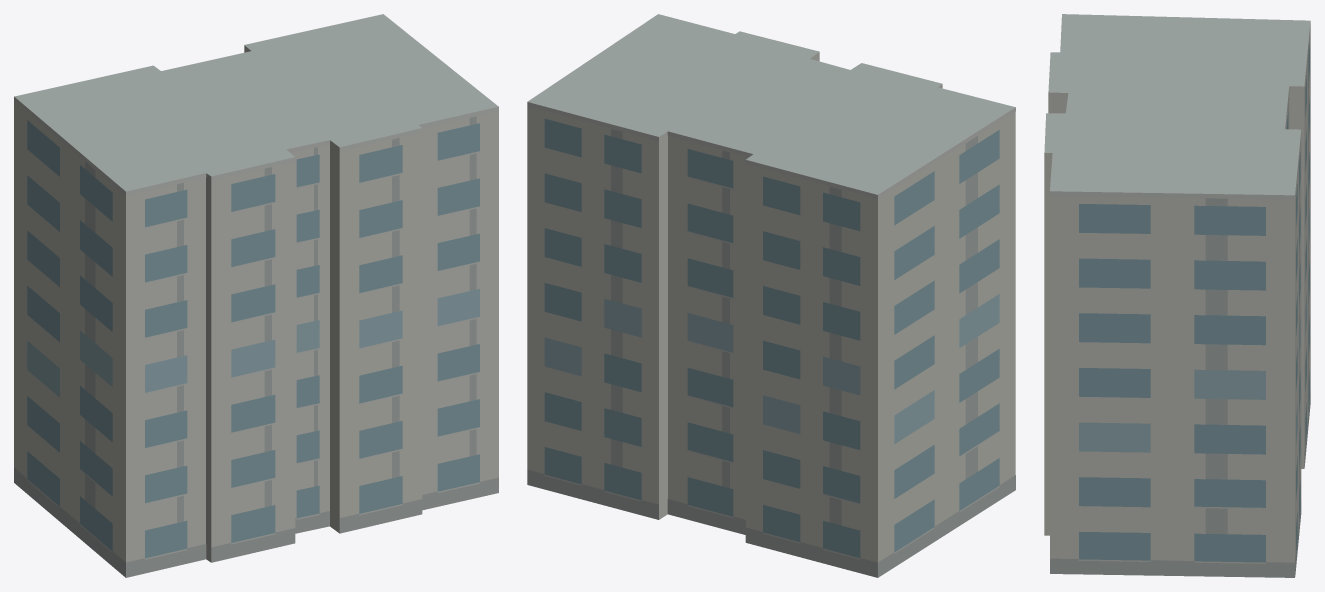
The model's file is survey-upis-32651375.glb.
3 views of the same model, side by side, from view 1: azimuth 30°, elevation 25°; view 2: azimuth 150°, elevation 25°; view 3: azimuth 270°, elevation 25° (orthographic).
Visible parts, largest first — view 1: survey-upis-32651375.tmp; view 2: survey-upis-32651375.tmp; view 3: survey-upis-32651375.tmp.
Part boxes in pixels (bbox=[...]): survey-upis-32651375.tmp: bbox=[14, 14, 498, 577]; survey-upis-32651375.tmp: bbox=[527, 14, 1015, 577]; survey-upis-32651375.tmp: bbox=[1044, 14, 1310, 577].
Size of the model in its own units: 21.15 by 20.8 by 13.12.
